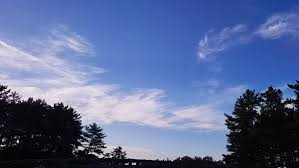sky: (1, 2, 299, 115)
tree: (4, 90, 103, 166), (222, 84, 299, 165)
